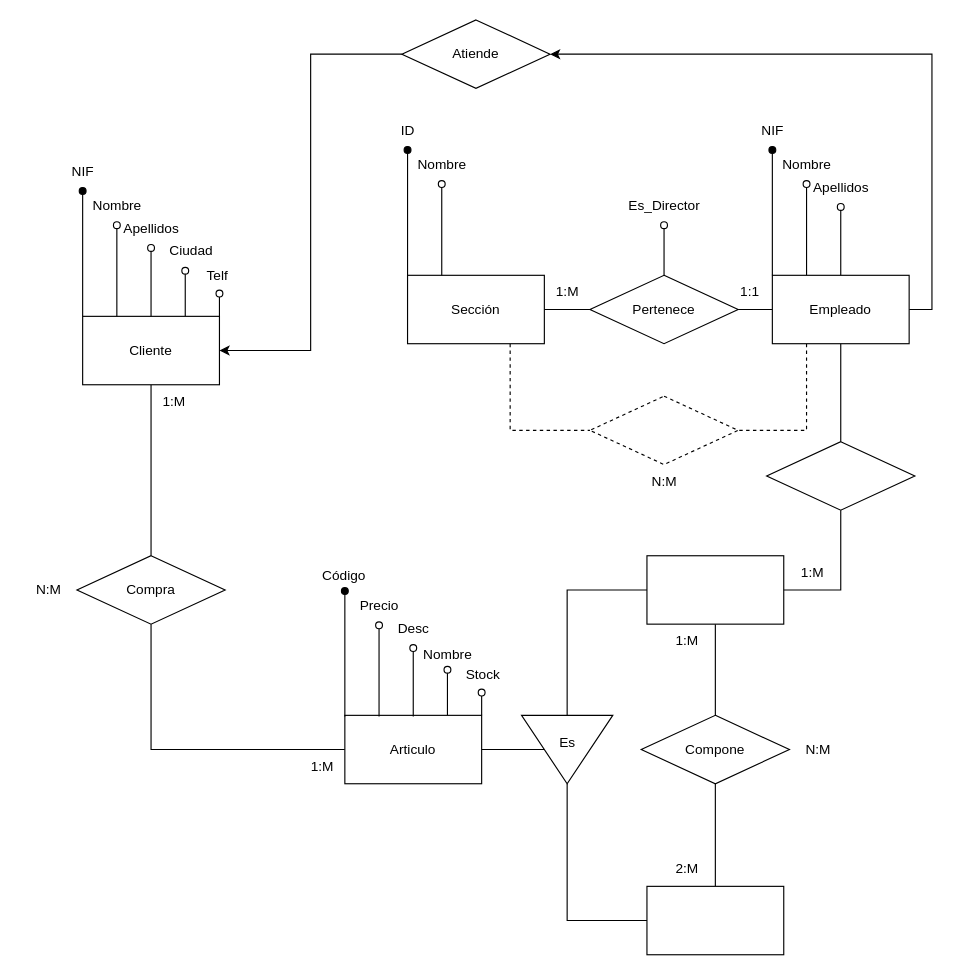
Image size: 961x975. Some labels were removed from this diagram. The centre of each missing label's shape, as x and y in pixels:
Componente: point (715, 920)
Dirige: point (663, 430)
Equipo: point (715, 589)
Monta: point (840, 475)
